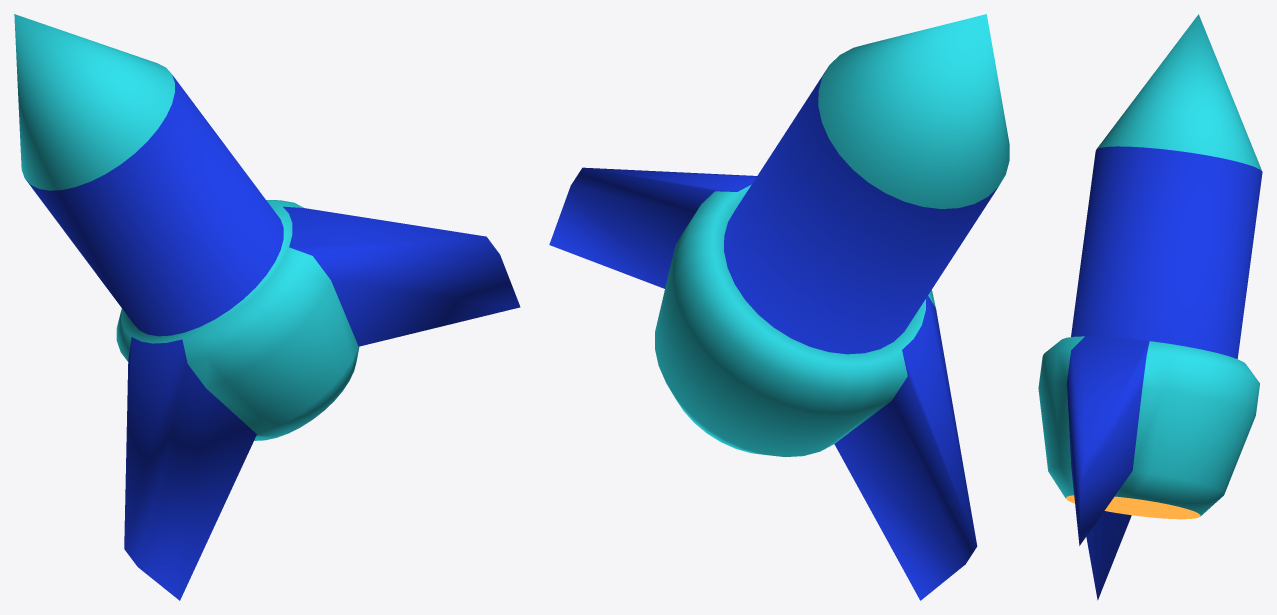
Rendered from p-up fly .fbx.
The picture shows the model from 3 angles, left to right: view 1: azimuth 30°, elevation 25°; view 2: azimuth 150°, elevation 25°; view 3: azimuth 270°, elevation 25°; orthographic projection. The views are drawn at different scales.
Parts seen in each view (by area): view 1: Fly; view 2: Fly; view 3: Fly.
Boxes of the visible parts, x1=… form: Fly: x1=14, y1=14, x2=520, y2=600; Fly: x1=549, y1=14, x2=1009, y2=600; Fly: x1=1038, y1=14, x2=1262, y2=600.
Size of the model in its own units: 117 by 145 by 55.
